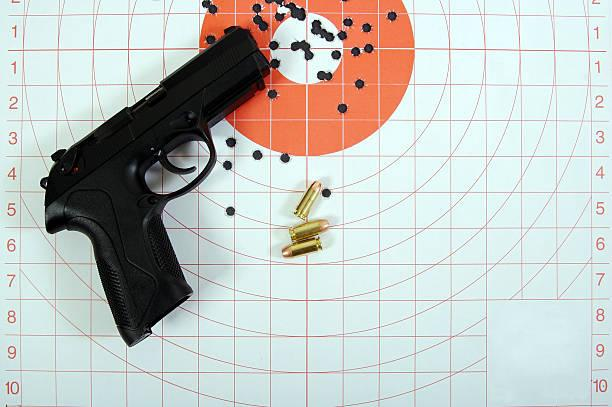weapon: (46, 22, 264, 342)
